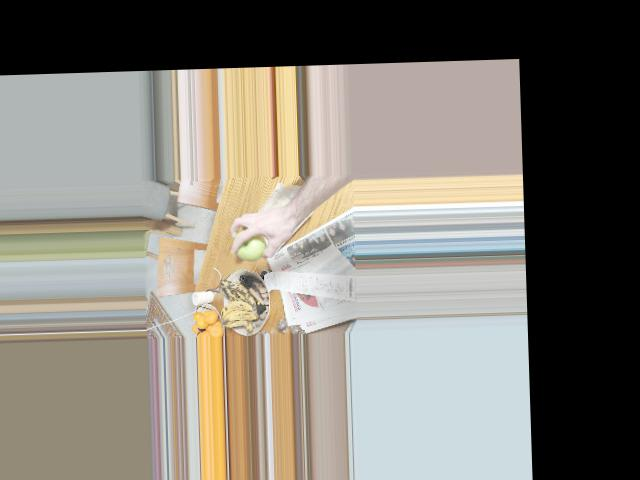apple: (235, 232, 266, 259)
